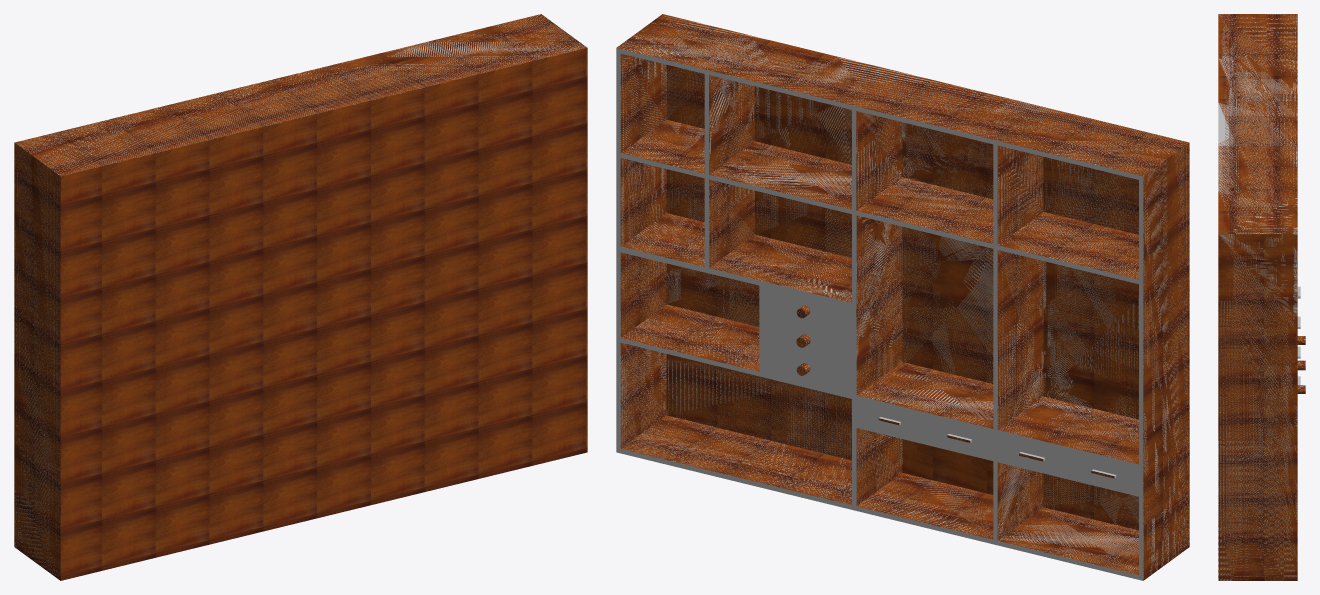
3 renders of one model, left to right at view 1: azimuth 30°, elevation 25°; view 2: azimuth 150°, elevation 25°; view 3: azimuth 270°, elevation 25°, orthographic. The views are drawn at different scales.
Parts seen in each view (by area): view 1: mesh1_mesh1-geometry; view 2: mesh1_mesh1-geometry; view 3: mesh1_mesh1-geometry.
Boxes of the visible parts, x1,y1,x2,y2 form: mesh1_mesh1-geometry: (14, 14, 587, 580); mesh1_mesh1-geometry: (616, 14, 1189, 580); mesh1_mesh1-geometry: (1218, 14, 1305, 580).
Size of the model in its own units: 0.7991 by 0.5862 by 0.1334.
